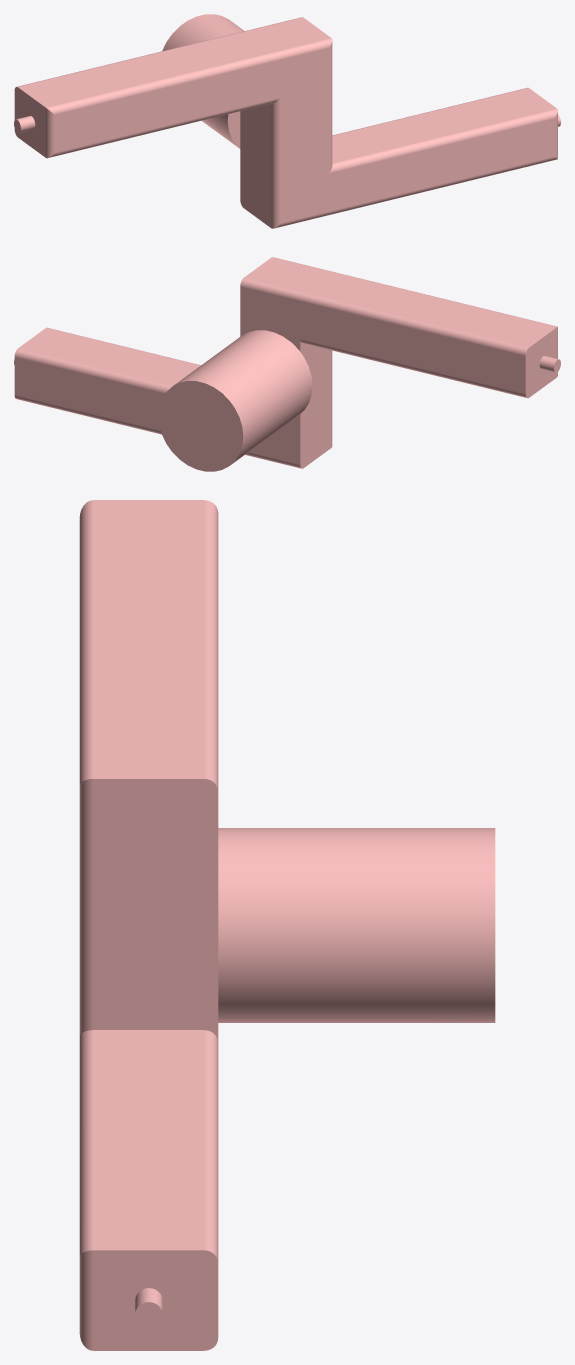
File: innerLegBottom-24-007-concept.obj
3 renders of one model, top to bottom at view 1: azimuth 30°, elevation 25°; view 2: azimuth 150°, elevation 25°; view 3: azimuth 270°, elevation 25°, orthographic. The views are drawn at different scales.
Parts seen in each view (by area): view 1: Root|innerLegBottom-24-007-concept_(Default)|Default|Default_-_P; view 2: Root|innerLegBottom-24-007-concept_(Default)|Default|Default_-_P; view 3: Root|innerLegBottom-24-007-concept_(Default)|Default|Default_-_P.
Part boxes in pixels (box(x1,y1,x2,y2)): Root|innerLegBottom-24-007-concept_(Default)|Default|Default_-_P: box(14, 14, 560, 228); Root|innerLegBottom-24-007-concept_(Default)|Default|Default_-_P: box(14, 257, 560, 471); Root|innerLegBottom-24-007-concept_(Default)|Default|Default_-_P: box(79, 500, 495, 1350).
Size of the model in its own units: 0.45 by 0.14 by 0.15.
